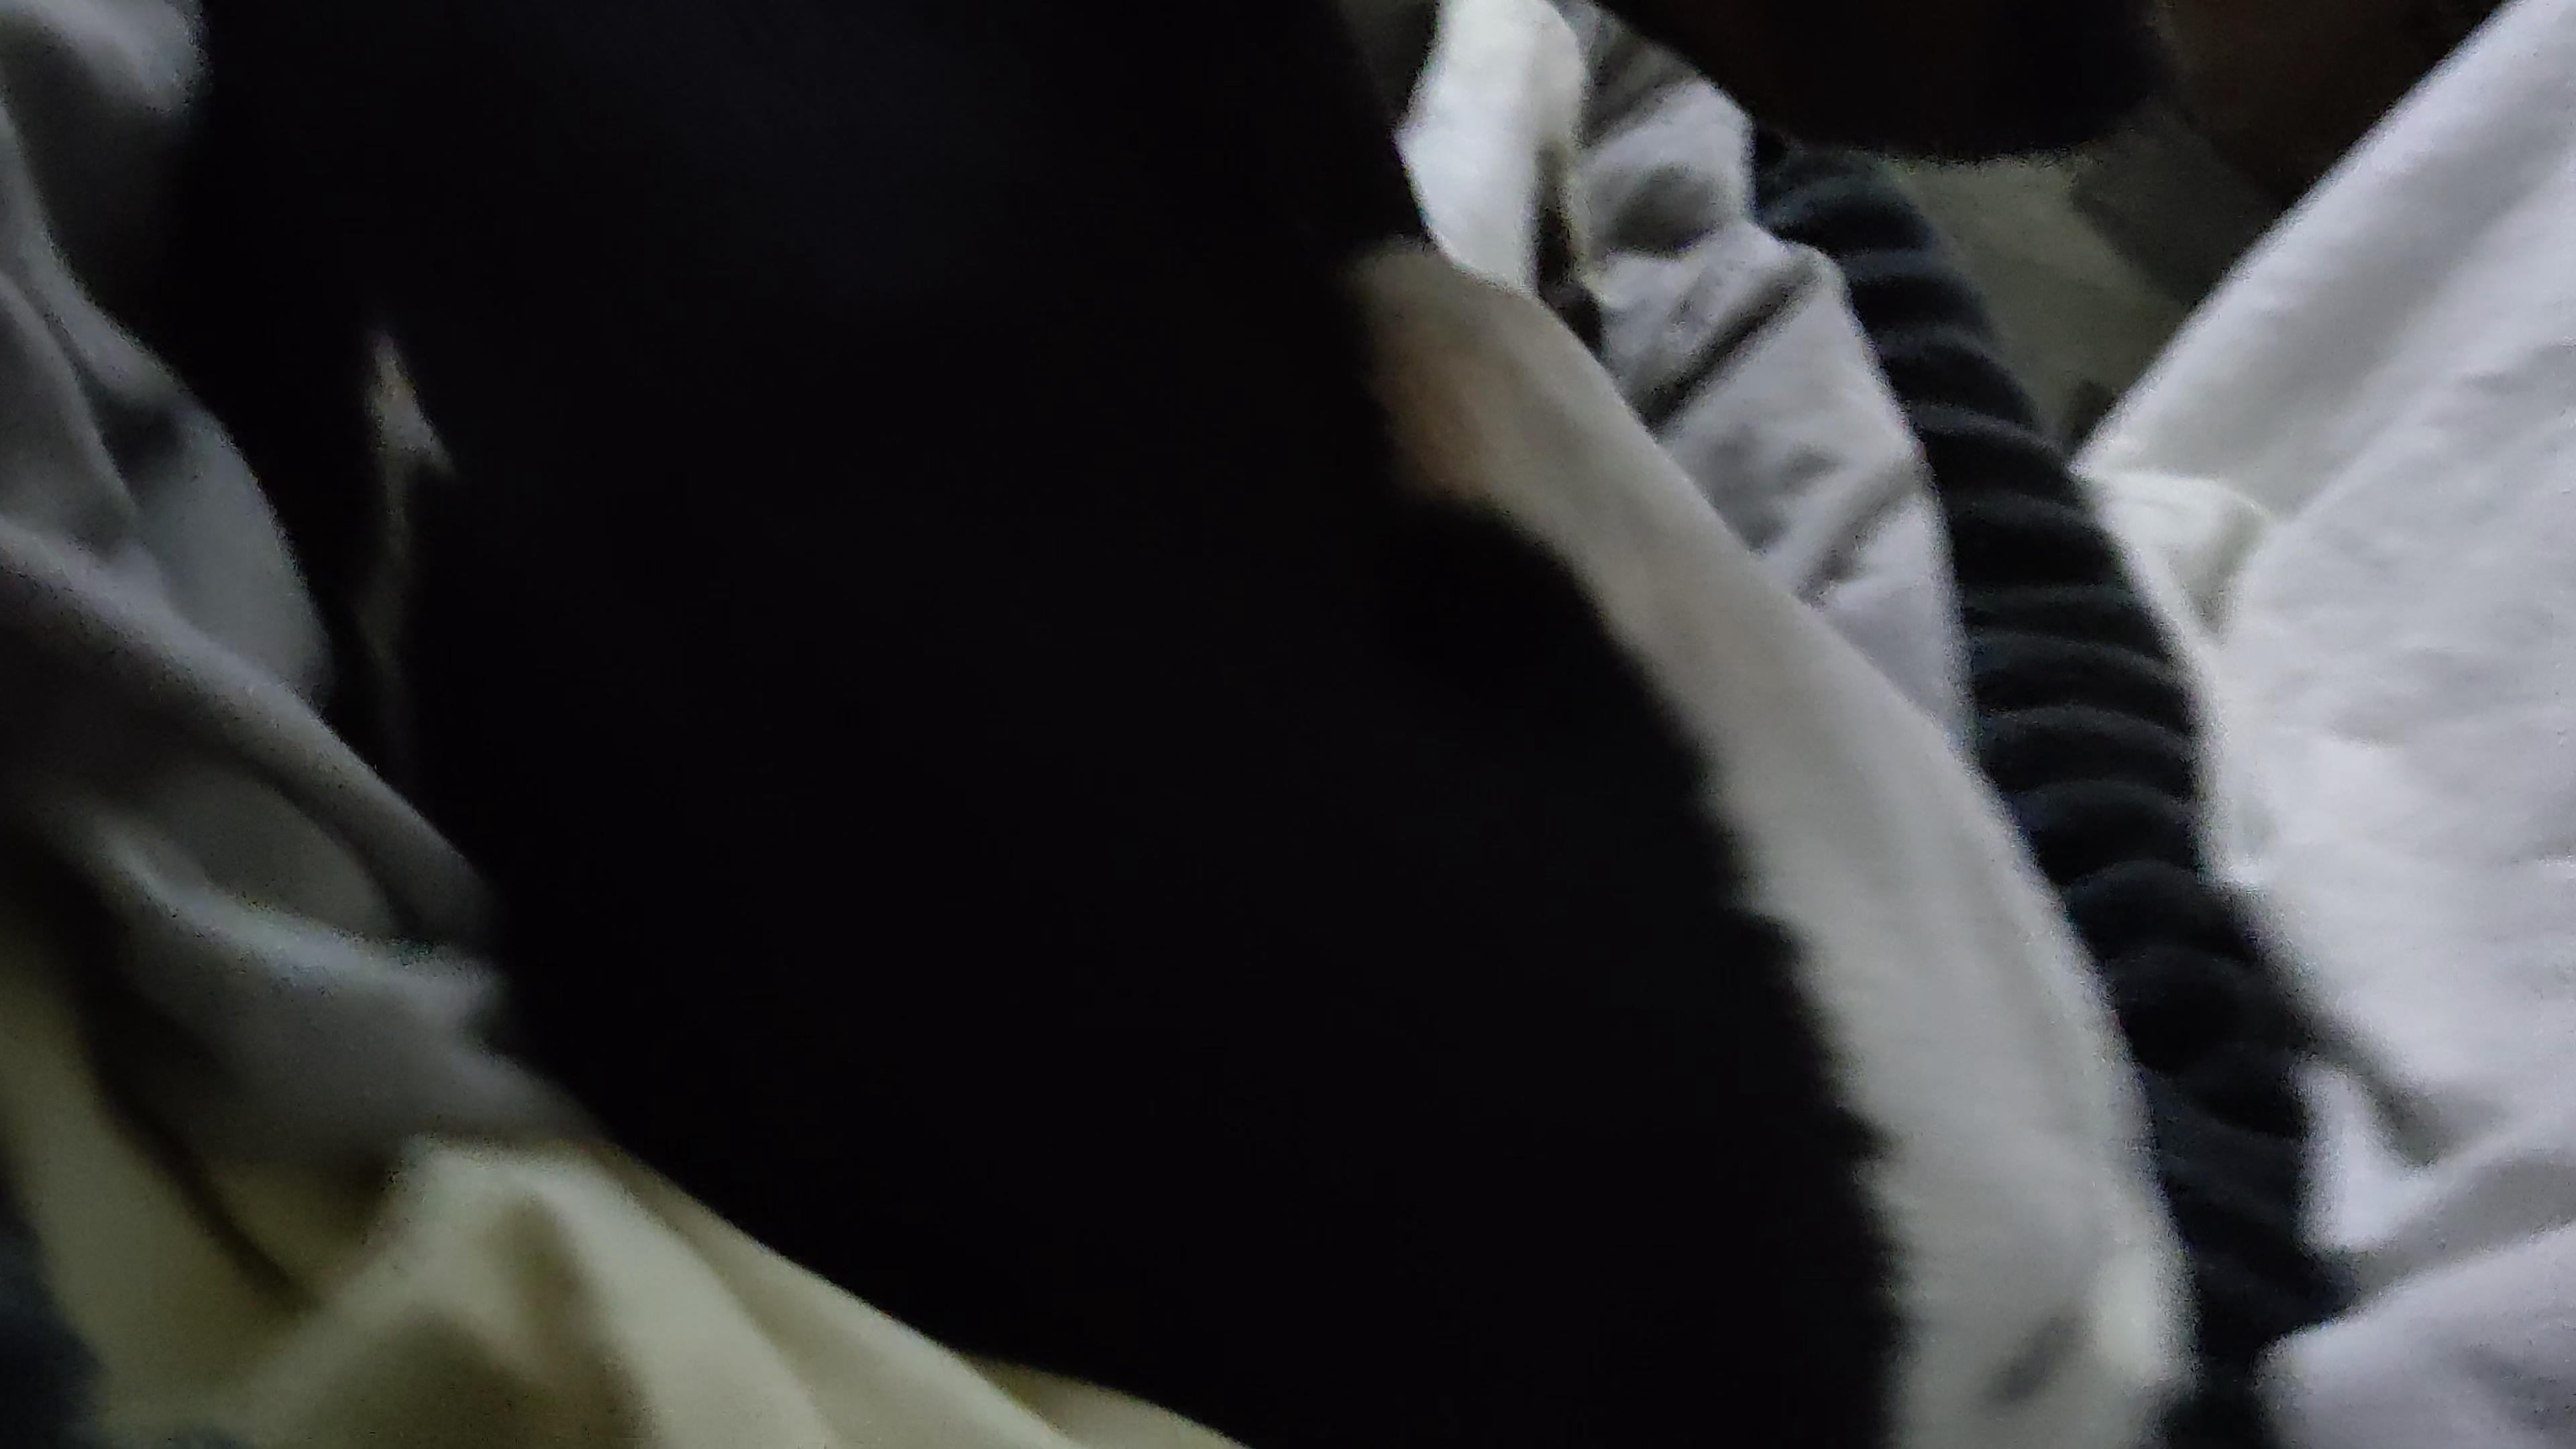Dog: (165, 0, 2231, 1449)
